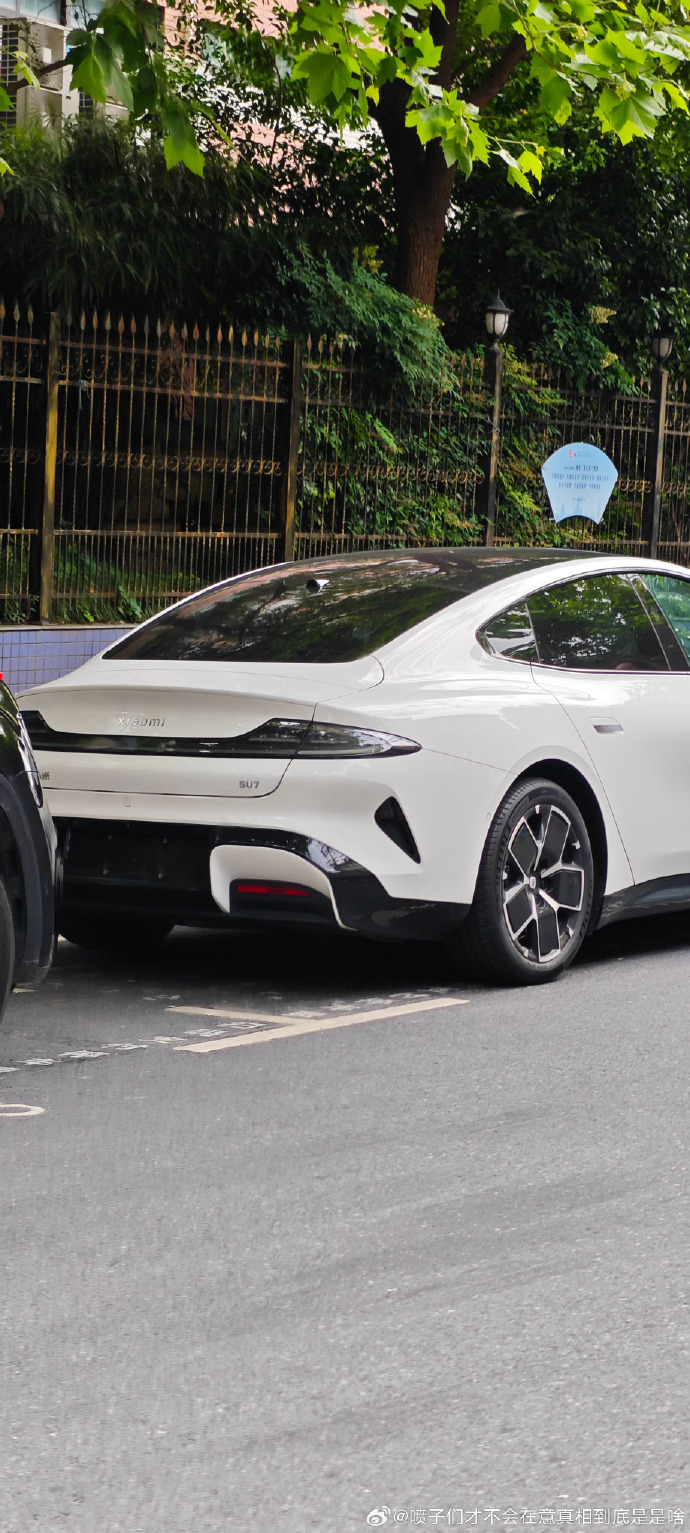su7: (18, 551, 690, 974)
